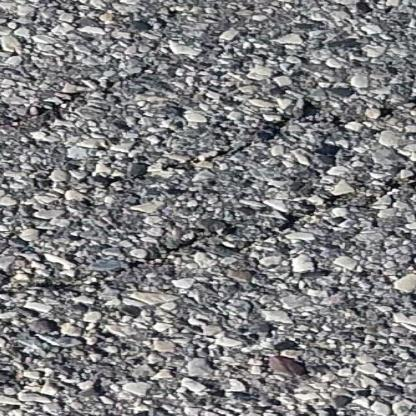Cracks: (0, 76, 416, 343)
